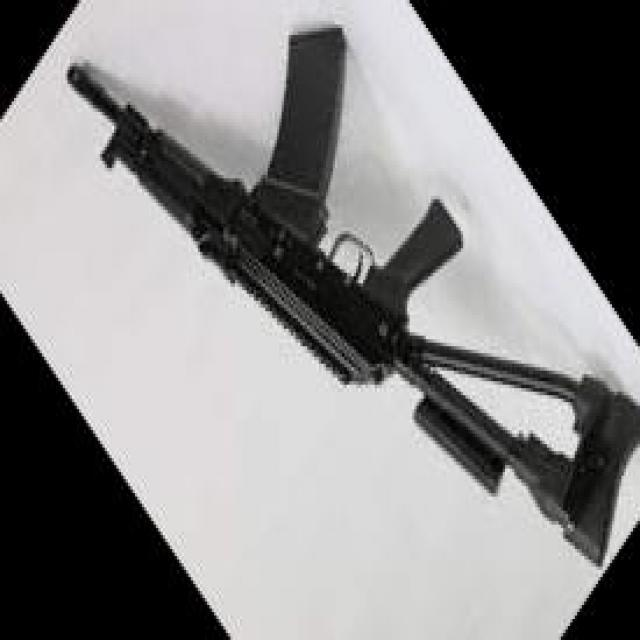weapon: (63, 26, 640, 572)
